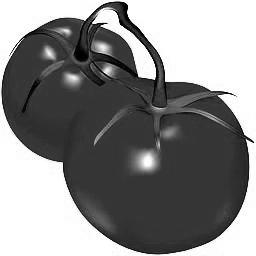bukan telur: (64, 80, 251, 256), (4, 16, 139, 162)
